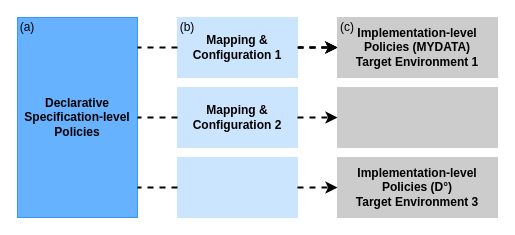
The diagram is 515 pixels wide and 235 high, and some of its shapes have lost their labels. Here are the shapes that lost their labels. From the top down, the centre of each, then its label:
(x=417, y=117): Implementation-level Policies (LUCON) Target Environment 2
(x=237, y=187): Mapping & Configuration 3
